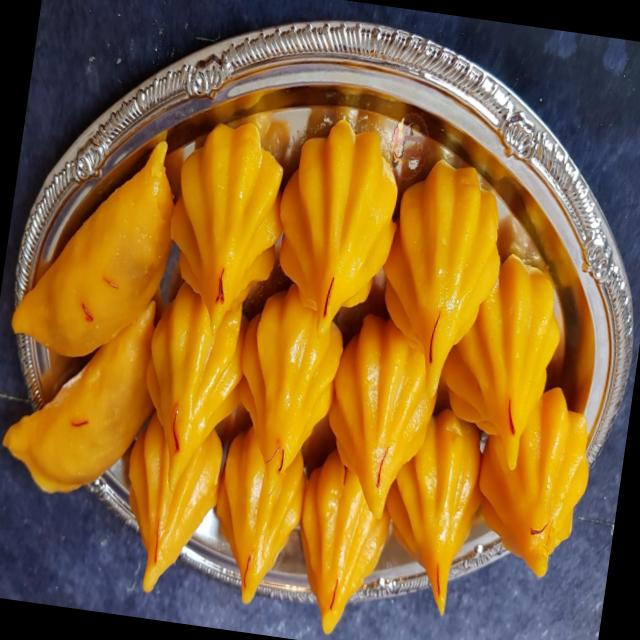modak: (12, 313, 169, 556), (45, 164, 180, 393), (304, 332, 434, 553), (379, 418, 506, 638), (152, 123, 283, 330), (467, 407, 594, 607), (390, 137, 491, 384), (192, 412, 310, 623), (274, 448, 403, 640), (274, 127, 386, 326), (112, 408, 222, 575), (460, 270, 561, 450), (231, 292, 328, 470)
